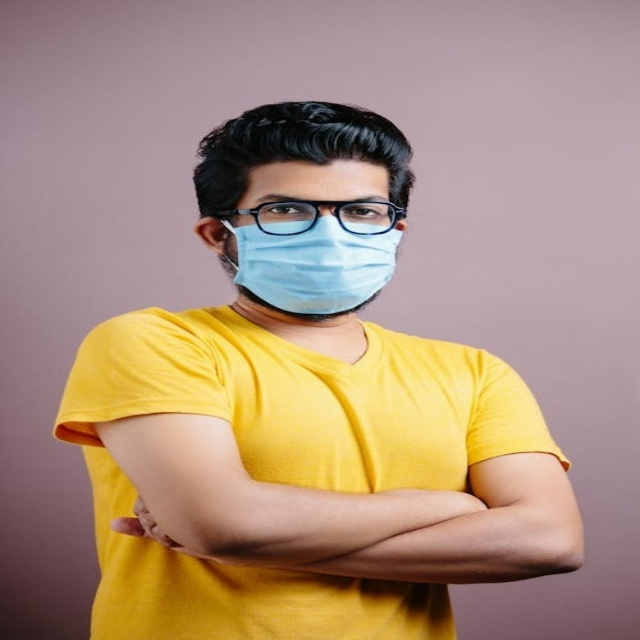Gafas: (215, 200, 406, 235)
Mascara: (221, 212, 403, 313)
Sin_guantes: (111, 509, 265, 571)
